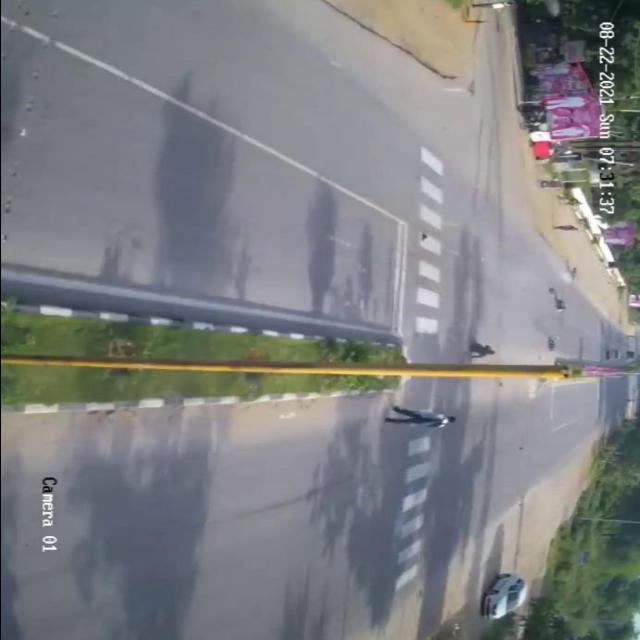accident: (532, 279, 578, 352)
